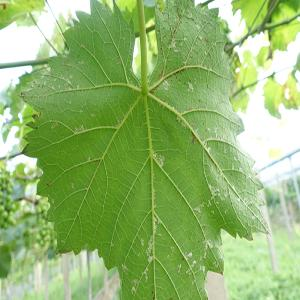Folha: (17, 0, 270, 298)
Fungo: (206, 163, 233, 219), (38, 68, 83, 94), (240, 191, 257, 213), (39, 69, 55, 92), (176, 251, 192, 273), (211, 125, 227, 145), (208, 178, 221, 201), (198, 134, 212, 155), (202, 235, 214, 257), (151, 148, 164, 167), (72, 118, 85, 137), (145, 235, 153, 263), (150, 169, 156, 204), (192, 199, 206, 214), (168, 38, 181, 54), (175, 114, 189, 128), (186, 260, 196, 276), (152, 213, 160, 233), (142, 266, 150, 284), (130, 277, 138, 293), (114, 113, 123, 127), (130, 78, 140, 90), (50, 118, 59, 131), (186, 8, 194, 22), (148, 85, 157, 97), (231, 152, 240, 164), (186, 80, 194, 92), (162, 79, 170, 91), (199, 264, 207, 275), (157, 66, 163, 80), (197, 60, 205, 70), (202, 49, 212, 57), (230, 163, 236, 176), (238, 162, 244, 174), (176, 12, 183, 22), (191, 130, 195, 147), (70, 180, 76, 191), (202, 35, 208, 46), (181, 59, 188, 68), (122, 264, 128, 274), (46, 181, 52, 189), (128, 65, 133, 74), (116, 57, 121, 66), (67, 98, 72, 107), (177, 263, 181, 273), (196, 22, 200, 32), (50, 198, 55, 205), (90, 111, 95, 118), (88, 155, 92, 163), (182, 34, 187, 40)
